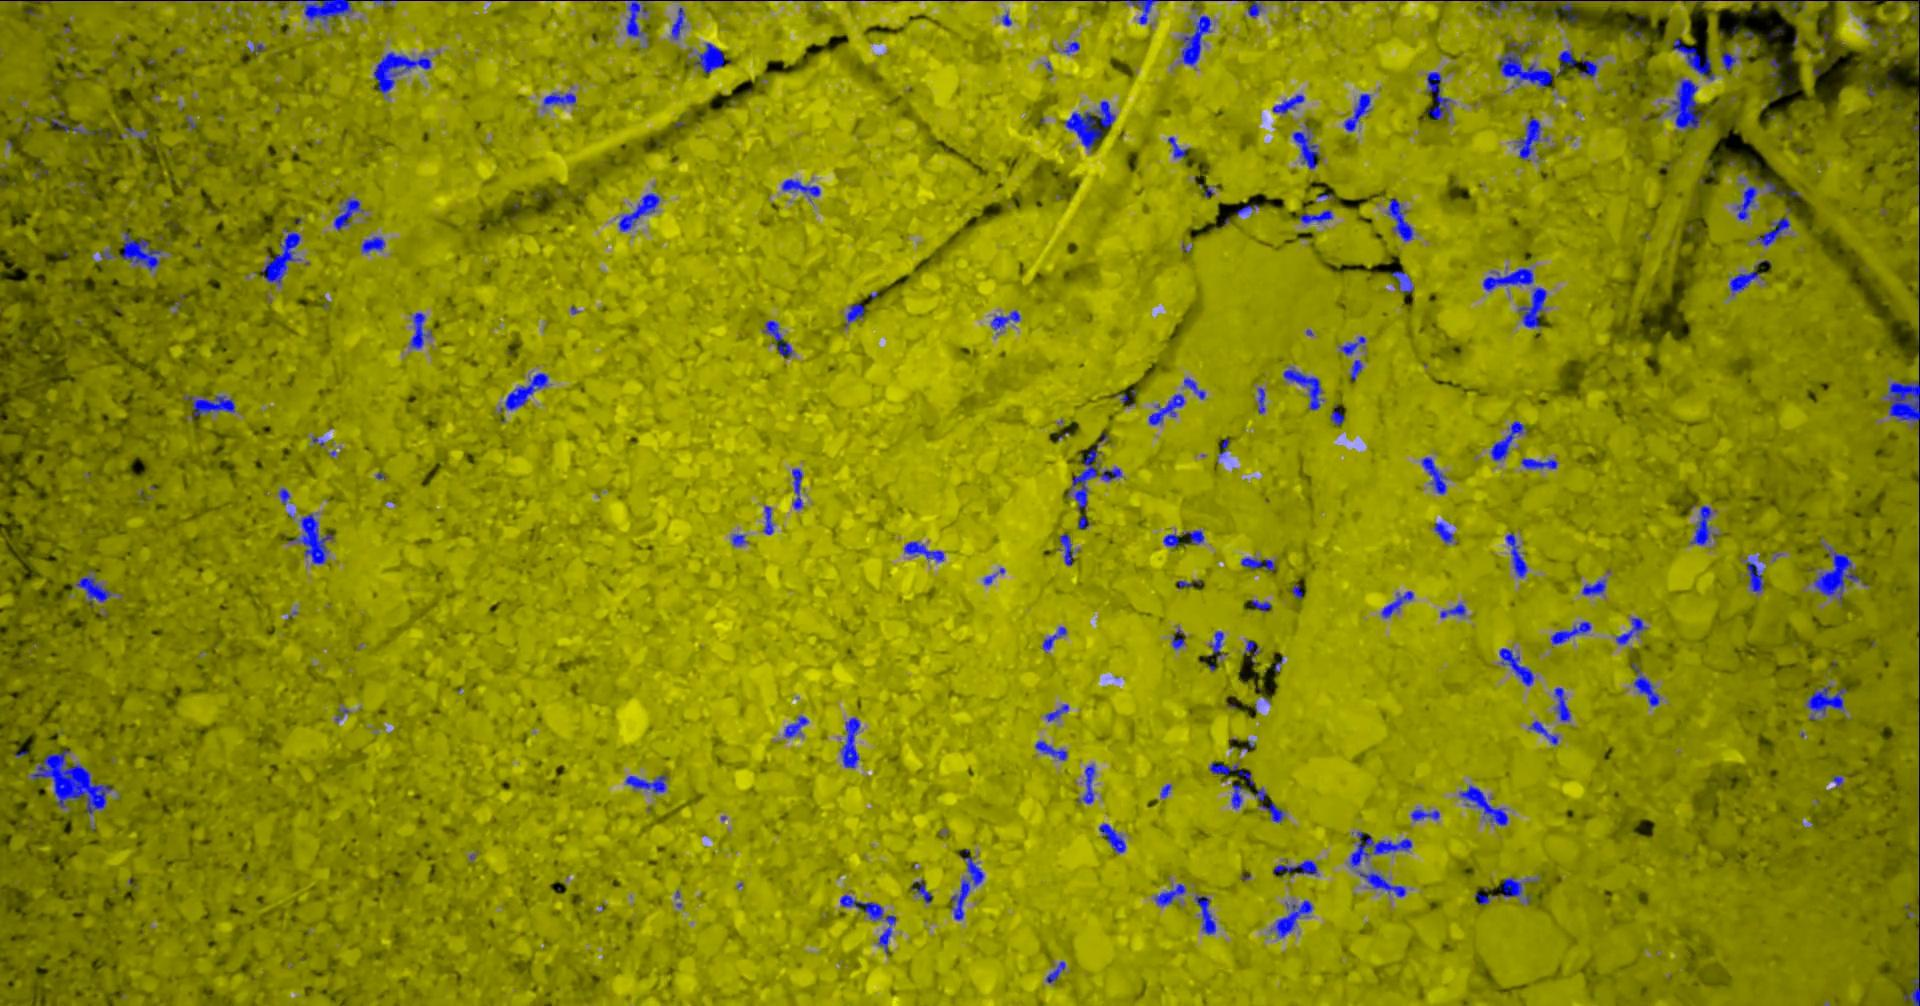ant: (1068, 443, 1123, 511), (841, 894, 897, 951), (1501, 39, 1559, 86), (1815, 546, 1862, 602), (1065, 100, 1117, 149), (102, 231, 163, 271), (375, 51, 432, 93), (952, 848, 985, 920), (262, 227, 302, 285), (290, 513, 334, 563), (1460, 785, 1509, 826), (502, 372, 549, 412), (1284, 366, 1324, 409), (1887, 380, 1920, 432), (1674, 38, 1716, 79), (1670, 79, 1703, 130), (620, 192, 662, 231), (1272, 901, 1314, 937), (1491, 420, 1529, 460), (1182, 15, 1211, 65), (1807, 685, 1848, 719), (1500, 647, 1535, 685), (301, 0, 356, 24), (1632, 663, 1661, 706), (74, 575, 113, 606), (1150, 392, 1186, 426), (1427, 71, 1451, 119), (36, 114, 97, 133), (1484, 267, 1535, 290), (1210, 761, 1256, 786), (1519, 287, 1548, 326), (695, 42, 731, 72), (764, 320, 794, 358), (1389, 198, 1415, 241), (1255, 788, 1286, 822), (1294, 127, 1321, 168), (188, 395, 237, 417), (1517, 117, 1543, 159), (1691, 506, 1719, 544), (1345, 93, 1371, 131), (842, 716, 861, 767), (1757, 216, 1790, 245), (1507, 532, 1529, 577), (1552, 621, 1592, 644), (335, 198, 364, 230), (1382, 591, 1415, 619), (1423, 456, 1448, 494), (1100, 823, 1128, 854), (1730, 267, 1761, 293), (1617, 617, 1648, 644), (783, 178, 822, 199), (626, 0, 649, 36), (1501, 876, 1531, 903), (905, 541, 945, 561), (626, 774, 668, 793), (1196, 895, 1217, 934), (411, 312, 433, 348), (1737, 185, 1759, 220), (1275, 859, 1319, 875), (1128, 0, 1159, 23), (1156, 883, 1187, 906), (992, 310, 1021, 334), (1530, 720, 1559, 744), (1905, 960, 1920, 1005), (1079, 763, 1096, 803), (1036, 741, 1069, 760), (1043, 626, 1068, 650), (1274, 94, 1305, 113), (1766, 179, 1802, 196), (1747, 560, 1765, 593), (1556, 687, 1572, 721), (785, 715, 810, 737), (912, 879, 933, 903), (1906, 0, 1920, 36), (1392, 271, 1415, 292), (1185, 377, 1208, 399), (1060, 533, 1076, 565), (1300, 210, 1335, 224), (792, 467, 804, 509), (1341, 337, 1368, 354), (1242, 558, 1277, 570), (672, 8, 686, 39), (545, 91, 577, 105), (1578, 57, 1600, 77), (1048, 702, 1070, 721), (1048, 960, 1067, 983), (1488, 0, 1519, 14), (1211, 630, 1227, 658), (1722, 46, 1738, 71), (1435, 522, 1455, 542), (1170, 136, 1189, 158), (1559, 50, 1577, 72), (1752, 0, 1804, 8), (847, 302, 866, 323), (1412, 808, 1441, 821), (1583, 579, 1608, 594), (1476, 887, 1496, 904), (1562, 0, 1578, 22), (1441, 603, 1467, 617), (363, 236, 386, 251), (1331, 404, 1346, 426), (1183, 528, 1205, 544), (1523, 459, 1559, 467), (1233, 782, 1246, 808), (1769, 57, 1782, 81), (764, 506, 775, 533), (1173, 627, 1186, 649), (1164, 533, 1183, 547), (1251, 600, 1272, 611), (1250, 0, 1263, 17), (1064, 41, 1081, 55), (1244, 640, 1260, 654), (733, 533, 749, 546), (1238, 205, 1258, 215), (1352, 359, 1363, 380), (1258, 387, 1266, 413), (279, 488, 291, 504), (1178, 580, 1203, 588), (1079, 516, 1091, 528), (1293, 586, 1304, 598)
